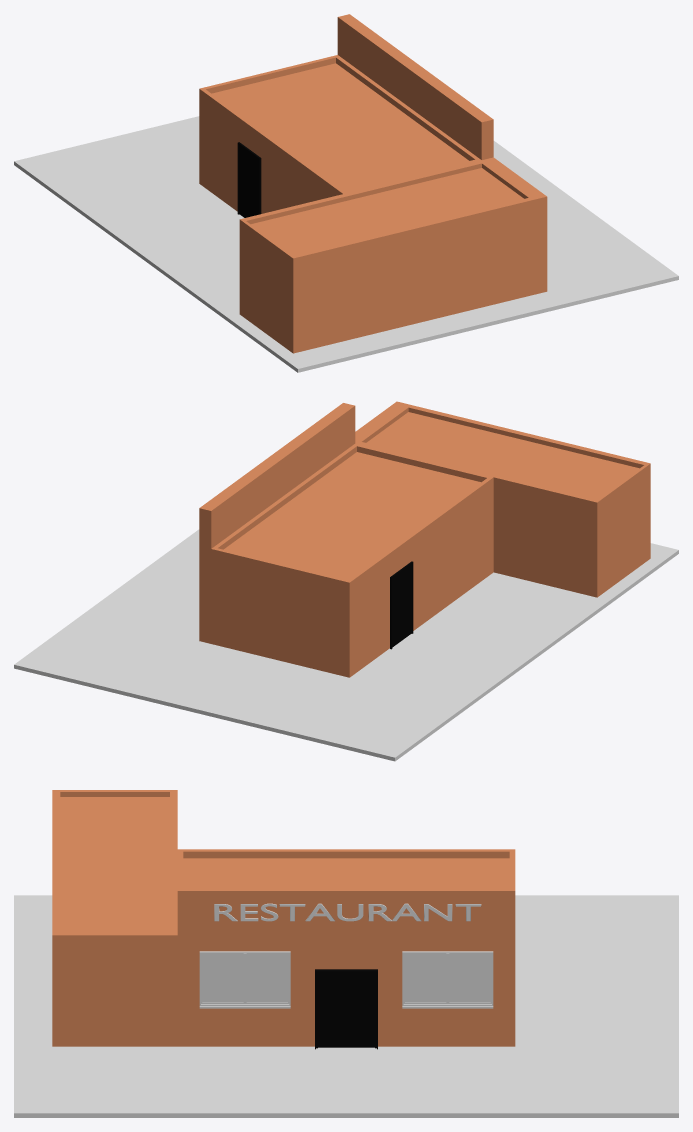
Rendered from Restaurant.fbx.
3 renders of one model, top to bottom at view 1: azimuth 30°, elevation 25°; view 2: azimuth 150°, elevation 25°; view 3: azimuth 270°, elevation 25°, orthographic. The views are drawn at different scales.
Parts seen in each view (by area): view 1: Plane.001, Plane, Plane.002; view 2: Plane.001, Plane, Plane.002; view 3: Plane.001, Plane, Plane.004, Plane.003, Object.
Part boxes in pixels (x1,y1,x2,y2): Plane.001: [199, 14, 547, 353]; Plane: [14, 116, 678, 372]; Plane.002: [237, 142, 261, 217]; Plane.001: [199, 401, 650, 677]; Plane: [14, 529, 678, 761]; Plane.002: [390, 561, 413, 649]; Plane.001: [52, 790, 515, 1046]; Plane: [14, 895, 678, 1117]; Plane.004: [199, 951, 493, 1008]; Plane.003: [315, 969, 377, 1049]; Object: [214, 903, 481, 921].
Bounding box in the file's own units: 2539 × 877 × 3274.
